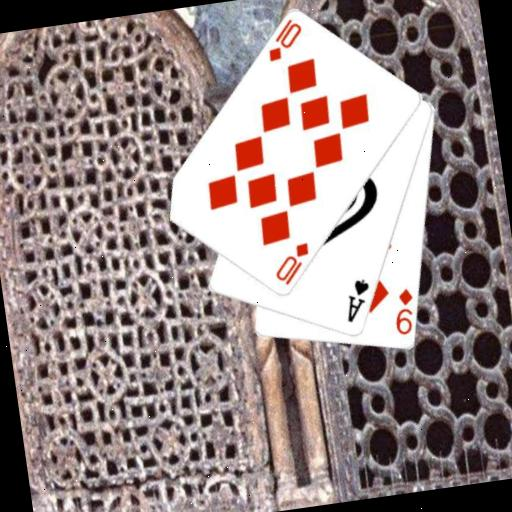10D: (260, 14, 307, 65), (268, 240, 315, 289)
9D: (388, 285, 420, 339)
AS: (339, 276, 376, 326)
